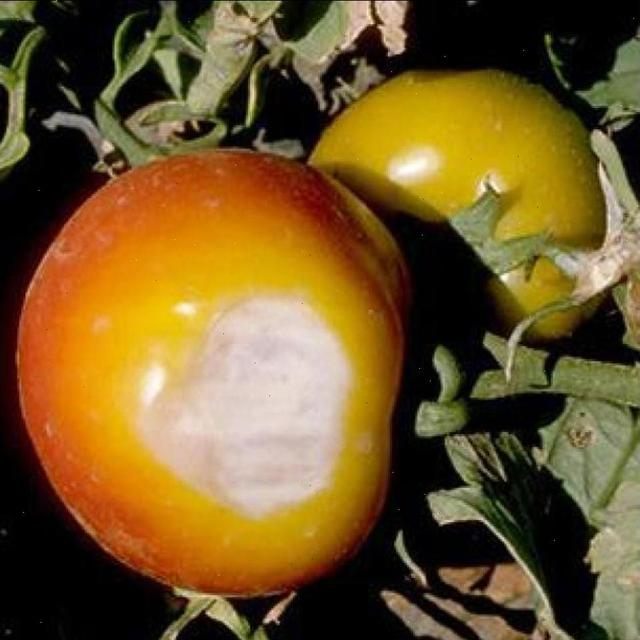Sunscald Fruit: (87, 174, 242, 360)
